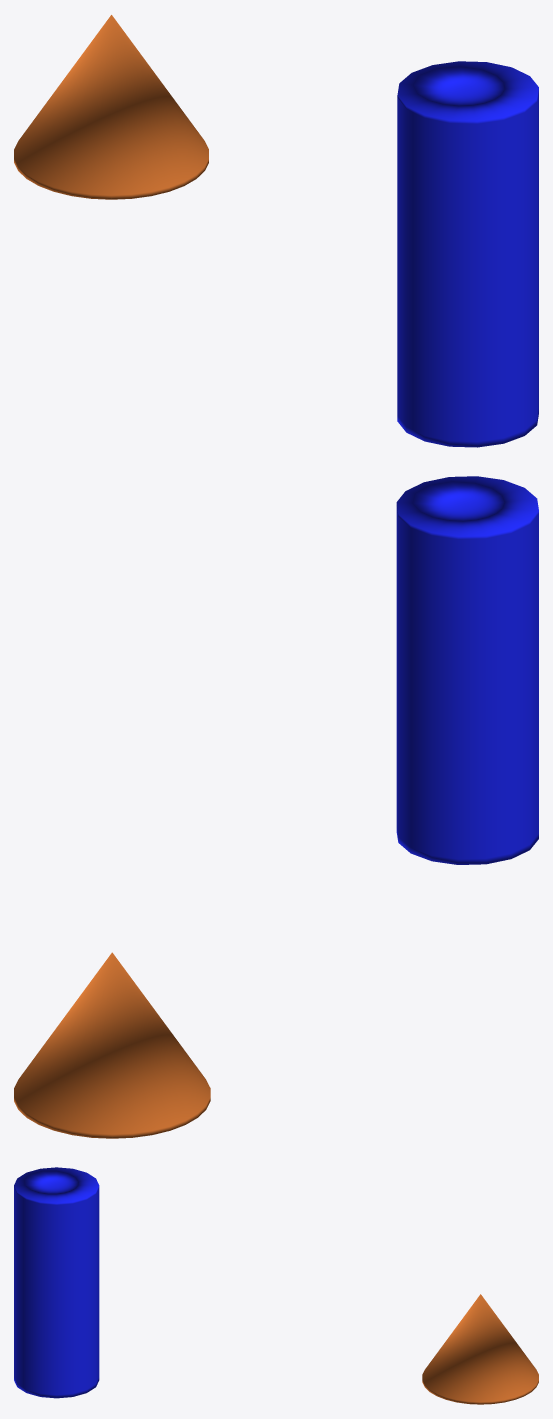
File: arrow.dae
3 renders of one model, top to bottom at view 1: azimuth 30°, elevation 25°; view 2: azimuth 150°, elevation 25°; view 3: azimuth 270°, elevation 25°, orthographic. The views are drawn at different scales.
Parts seen in each view (by area): view 1: Arrow_stem, Arrow_cone; view 2: Arrow_stem, Arrow_cone; view 3: Arrow_stem, Arrow_cone.
Part boxes in pixels (x1,y1,x2,y2): Arrow_stem: (397, 61, 538, 447); Arrow_cone: (14, 15, 208, 199); Arrow_stem: (396, 476, 538, 864); Arrow_cone: (14, 952, 210, 1138); Arrow_stem: (14, 1167, 99, 1398); Arrow_cone: (422, 1294, 538, 1404).
Bounding box in the file's own units: 0.5448 × 2.44 × 1.
